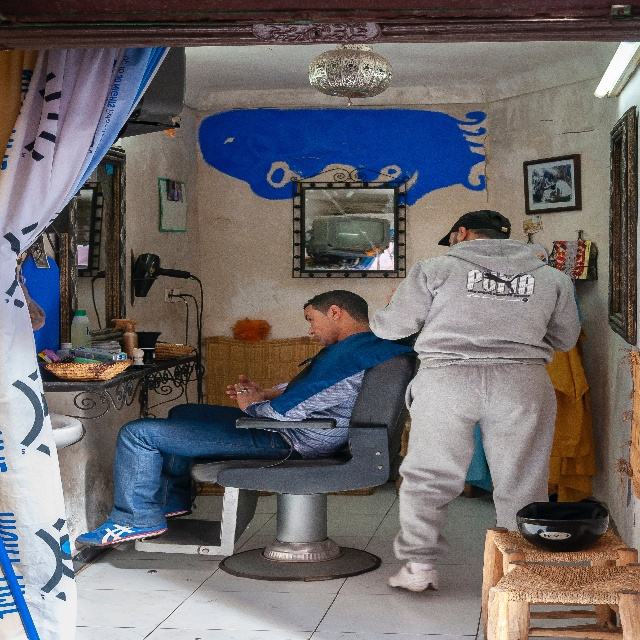Sin_guantes: (226, 373, 264, 400), (233, 381, 264, 414)
